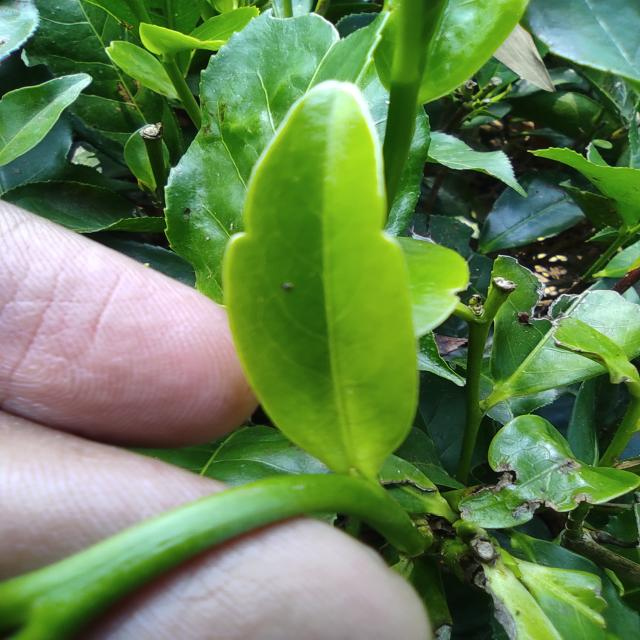Category C(4-7 days): (205, 57, 458, 489)
